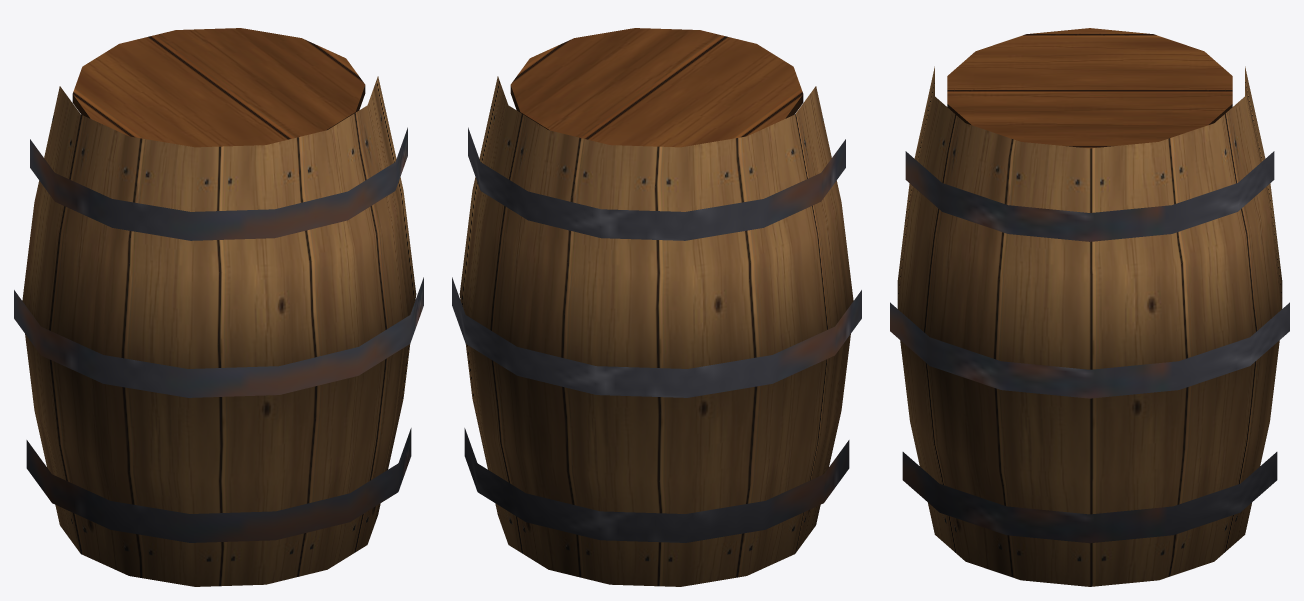
The model's file is town_barrel.glb.
3 views of the same model, side by side, from view 1: azimuth 30°, elevation 25°; view 2: azimuth 150°, elevation 25°; view 3: azimuth 270°, elevation 25° (orthographic).
Visible parts, largest first — view 1: town_barrel; view 2: town_barrel; view 3: town_barrel.
Boxes of the visible parts, <box> form: town_barrel: <box>14,28,423,586</box>; town_barrel: <box>452,28,861,586</box>; town_barrel: <box>890,28,1289,586</box>.
Size of the model in its own units: 0.644 by 0.76 by 0.6279.
Materials: 2 (2 with a texture image).
